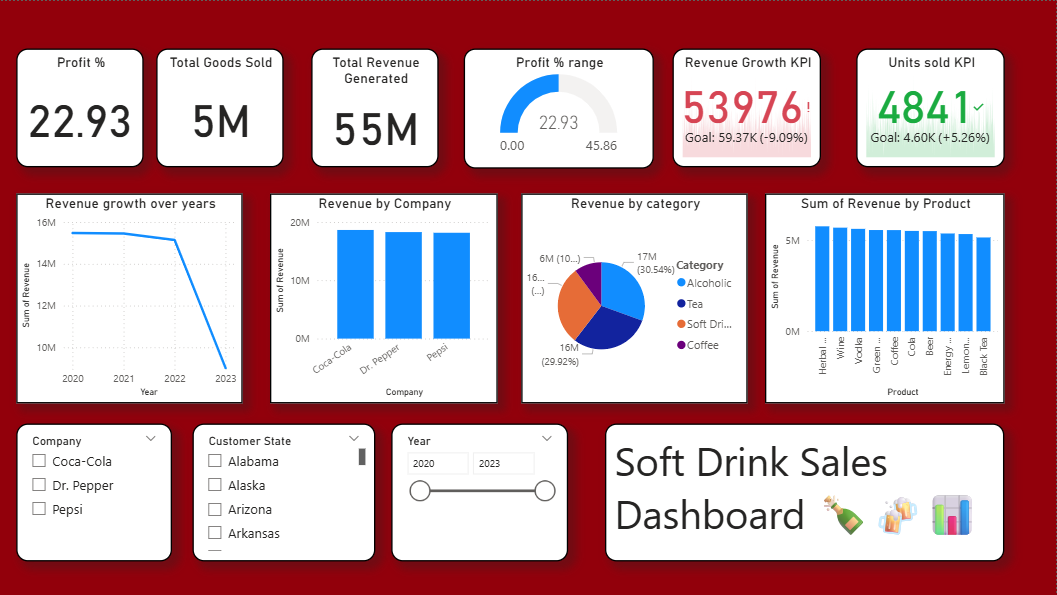

This screenshot's page, from the dashboard's own definition file:
{"tool":"powerbi","page":{"name":"Page 1","canvas":[1280,720],"ordinal":0},"visuals":[{"type":"card","title":"Profit %","fields":{"Values":["soft_drink_sales.Profit %"]},"box":[20,57.1,154.3,144.3],"z":0},{"type":"card","title":"Total Goods Sold","fields":{"Values":["soft_drink_sales.total goods sold"]},"box":[190,57.1,154.3,144.3],"z":1000},{"type":"card","title":"Total Revenue Generated","fields":{"Values":["soft_drink_sales.Total Revenue"]},"box":[377.1,57.1,154.3,144.3],"z":2000},{"type":"kpi","title":"Revenue Growth KPI","fields":{"Goal":["soft_drink_sales.Target Revenue"],"TrendLine":["soft_drink_sales.Purchase Date"],"Indicator":["soft_drink_sales.Total Revenue"]},"box":[815.7,57.1,180,144.3],"z":3000},{"type":"kpi","title":"Units sold KPI","fields":{"Indicator":["Sum(soft_drink_sales.Units Sold)"],"TrendLine":["soft_drink_sales.Purchase Date"],"Goal":["soft_drink_sales.Target Units Sold"]},"box":[1037.1,57.1,180,144.3],"z":4000},{"type":"lineChart","title":"Revenue growth over years","fields":{"Category":["soft_drink_sales.Purchase Date.Variation.Date Hierarchy.Year"],"Y":["Sum(soft_drink_sales.Revenue)"]},"box":[20,232.9,274.3,254.3],"z":5000},{"type":"pieChart","title":"Revenue by category","fields":{"Y":["Sum(soft_drink_sales.Revenue)"],"Category":["soft_drink_sales.Category"]},"box":[631.4,232.9,274.3,254.3],"z":6000},{"type":"columnChart","title":"Revenue by Company","fields":{"Category":["soft_drink_sales.Company"],"Y":["Sum(soft_drink_sales.Revenue)"]},"box":[327.1,232.9,275.7,254.3],"z":7000},{"type":"gauge","title":"Profit % range","fields":{"Y":["soft_drink_sales.Profit %"]},"box":[561.4,57.1,230,145.7],"z":8000},{"type":"slicer","fields":{"Values":["soft_drink_sales.Customer State"]},"box":[232.9,511.4,221.4,167.1],"z":9000},{"type":"slicer","fields":{"Values":["soft_drink_sales.Company"]},"box":[20,511.4,188.6,167.1],"z":10000},{"type":"textbox","box":[732.9,511.4,484.3,167.1],"z":11000},{"type":"slicer","fields":{"Values":["soft_drink_sales.Year"]},"box":[474.3,511.4,214.3,167.1],"z":12000},{"type":"columnChart","fields":{"Category":["soft_drink_sales.Product"],"Y":["Sum(soft_drink_sales.Revenue)"]},"box":[927.1,232.9,290,254.3],"z":13000}]}

Visuals, with their boxes in screenshot pixels (x1, y1, x2, y2), scaled from the page's 1280x720 canvas onto the 1057x595 screenshot:
"Profit %" card: Rect(17, 47, 144, 166)
"Total Goods Sold" card: Rect(157, 47, 284, 166)
"Total Revenue Generated" card: Rect(311, 47, 439, 166)
"Revenue Growth KPI" kpi: Rect(674, 47, 822, 166)
"Units sold KPI" kpi: Rect(856, 47, 1005, 166)
"Revenue growth over years" lineChart: Rect(17, 192, 243, 403)
"Revenue by category" pieChart: Rect(521, 192, 748, 403)
"Revenue by Company" columnChart: Rect(270, 192, 498, 403)
"Profit % range" gauge: Rect(464, 47, 654, 168)
slicer - soft_drink_sales.Customer State: Rect(192, 423, 375, 561)
slicer - soft_drink_sales.Company: Rect(17, 423, 172, 561)
textbox: Rect(605, 423, 1005, 561)
slicer - soft_drink_sales.Year: Rect(392, 423, 569, 561)
columnChart - soft_drink_sales.Product x Sum(soft_drink_sales.Revenue): Rect(766, 192, 1005, 403)
